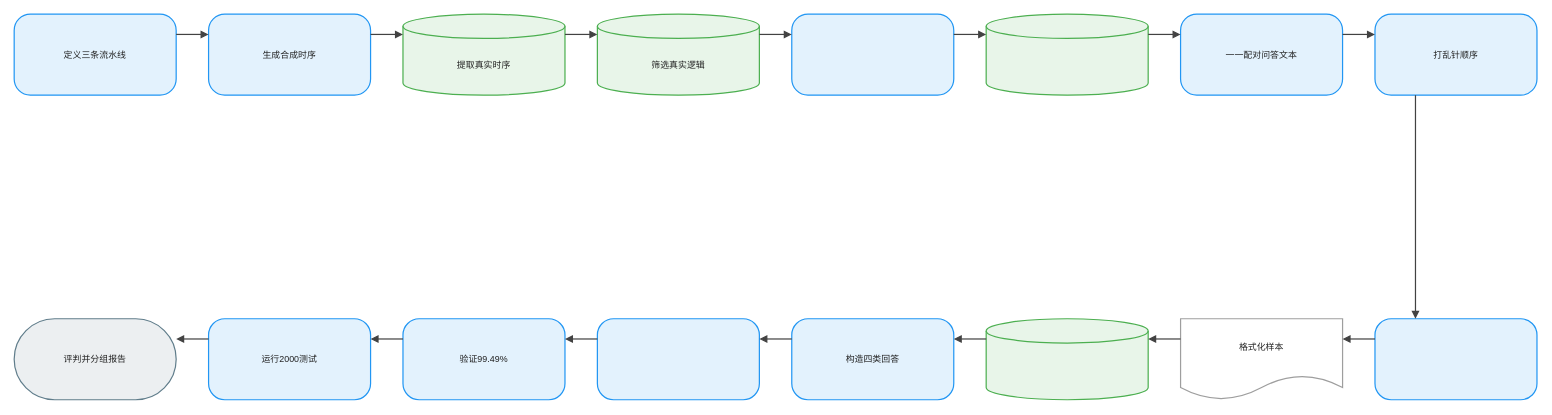
This 1552x415 diagram has some shape labels left out. The shapes that lost their labels are listed below. From the top down, each one's box as (x1, y1, x2, y2) in pixels, then its label:
(791, 13, 954, 95): 抽查并改写
(985, 13, 1148, 95): 抽取双语长文本
(596, 318, 760, 400): 训练评估器
(985, 318, 1148, 400): 划分一万两千两千
(1374, 318, 1537, 400): 随机插入位置
